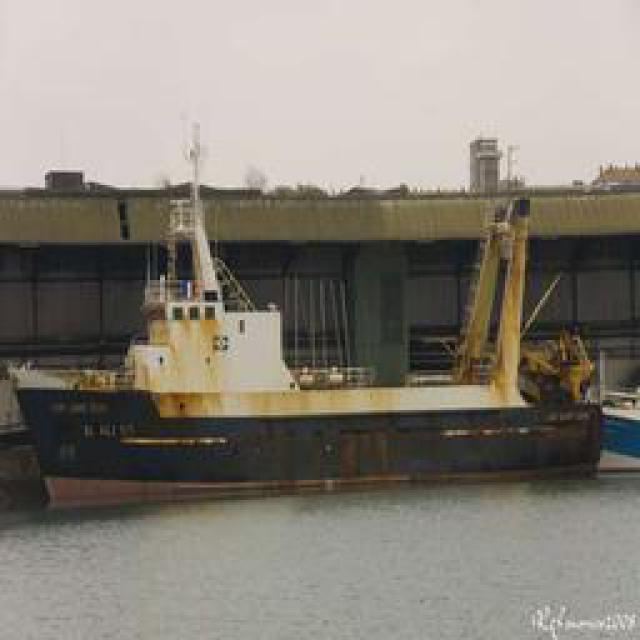Ship: (14, 124, 619, 504)
